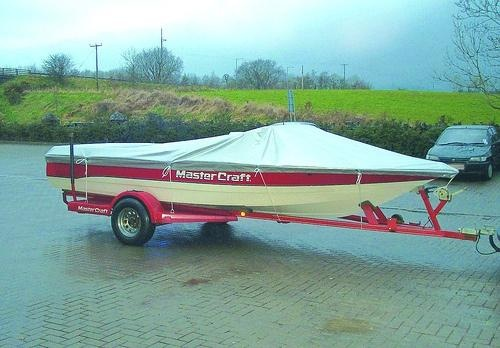boat: (44, 120, 459, 222)
car: (427, 125, 500, 181)
